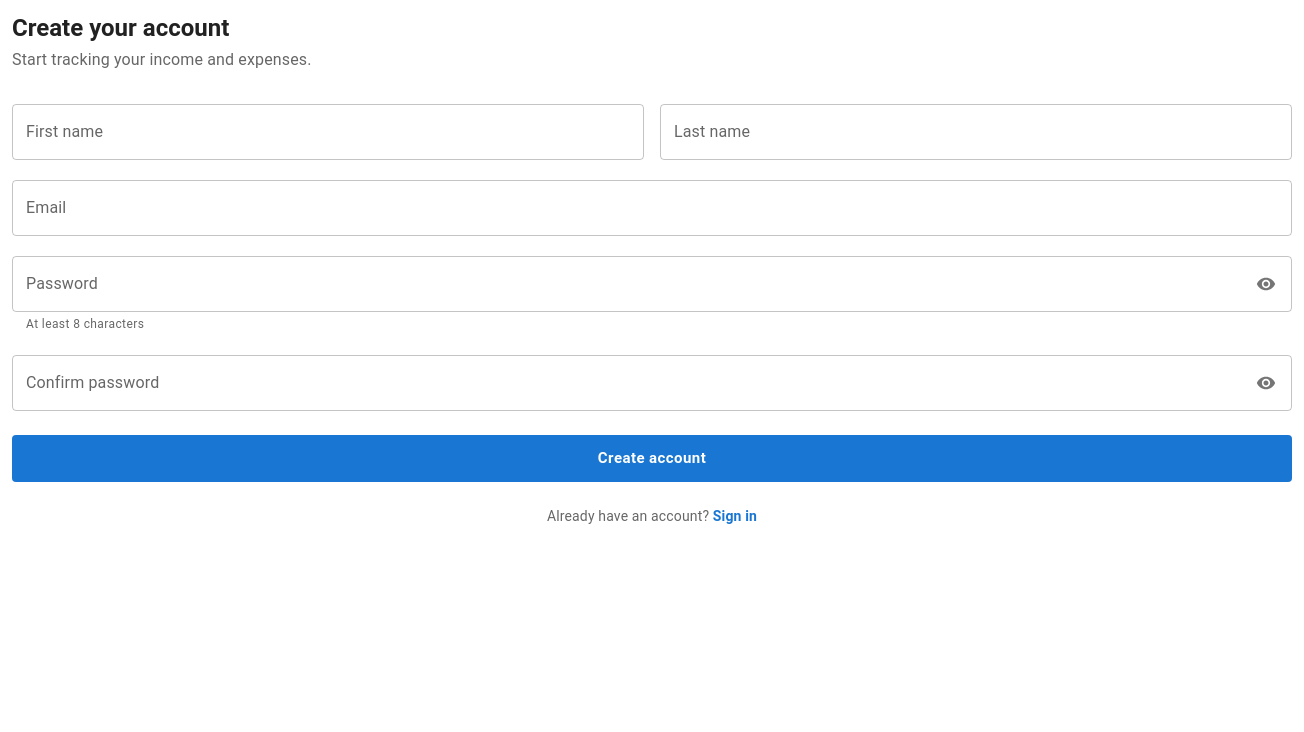
Test: Register page › rejects passwords that do not match
Step 1. Type "Demo" into the field labelled "First name" → (328, 132), box [12,104,644,160]
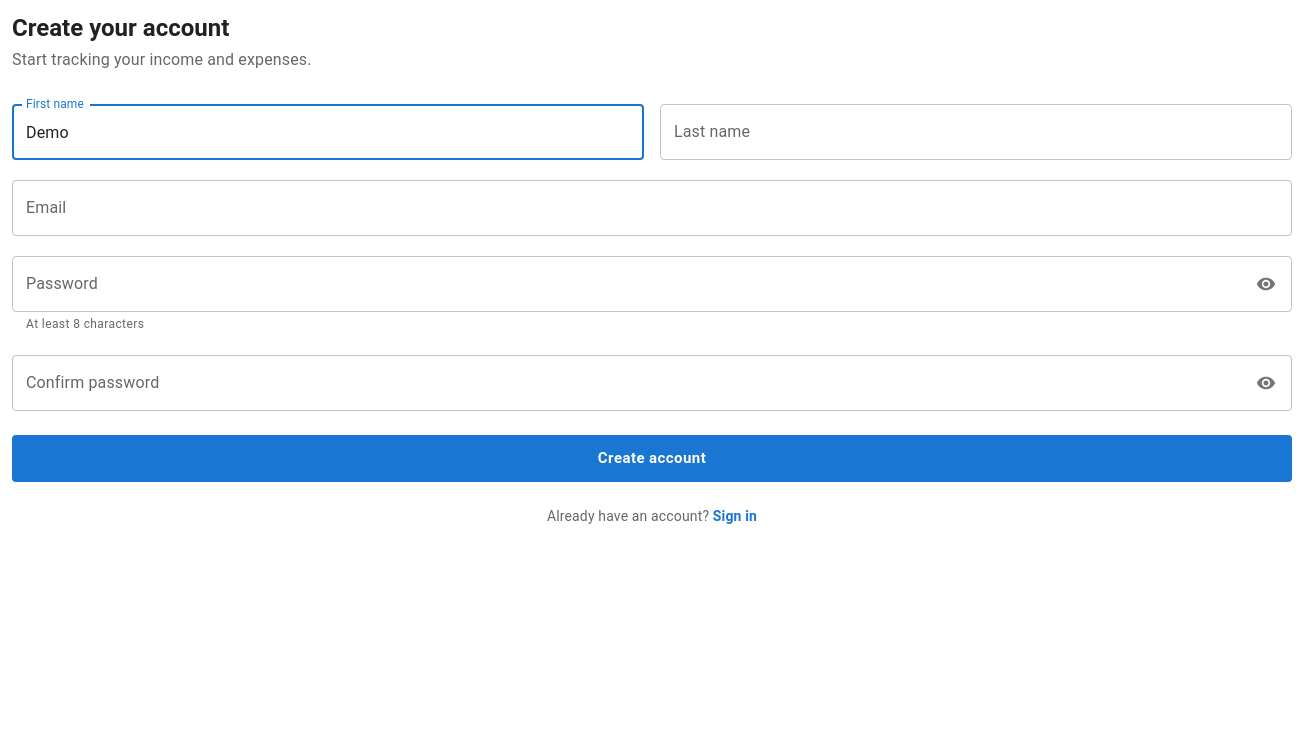
Step 2. Type "User" into the field labelled "Last name" → (976, 132), box [660,104,1292,160]
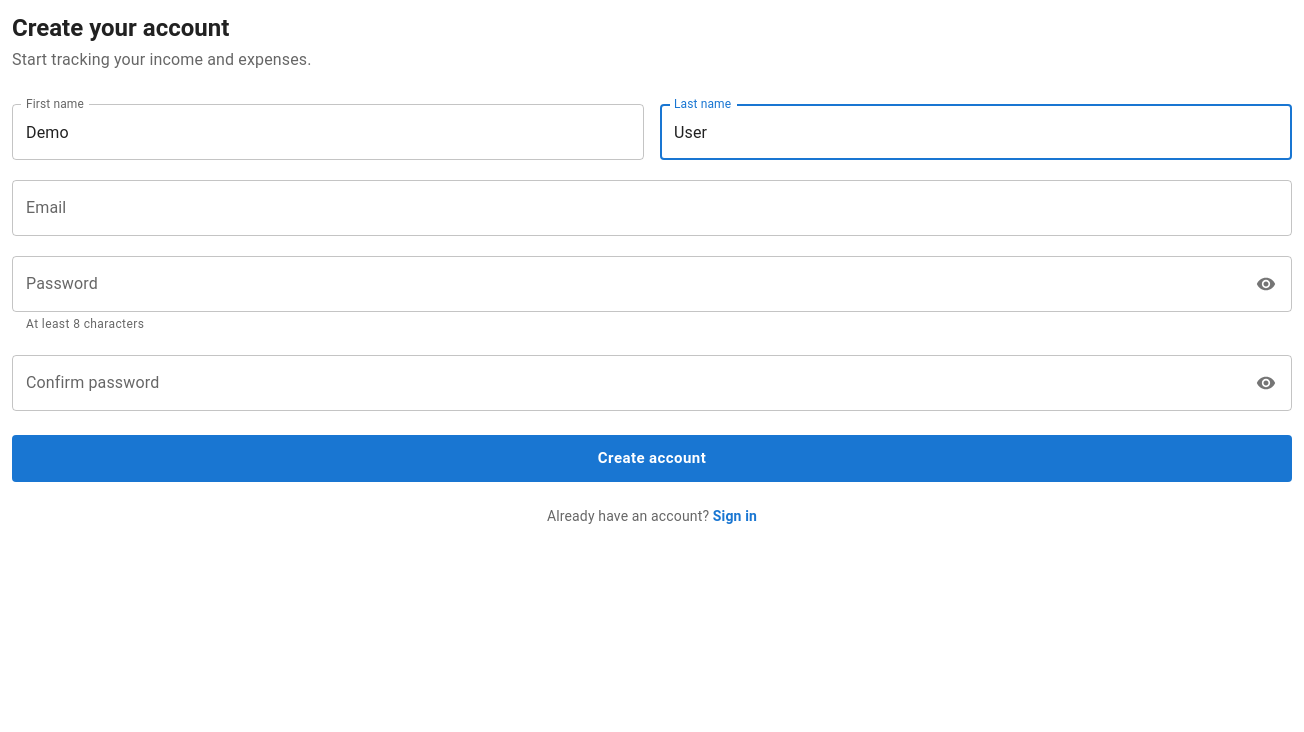
Step 3. Type "demo@qashio.com" into the field labelled "Email" → (652, 208), box [12,180,1292,236]
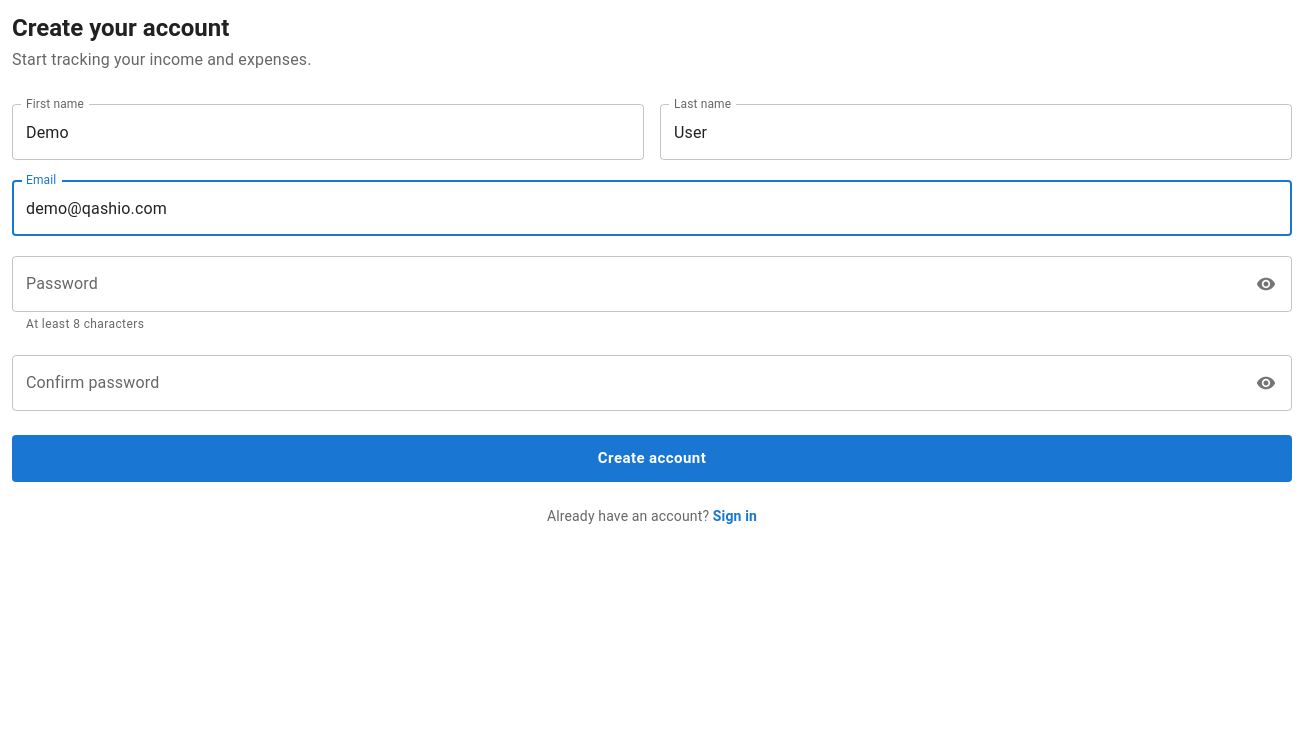
Step 4. Type "Secret123" into the password field labelled "Password" → (628, 284), box [12,256,1243,312]
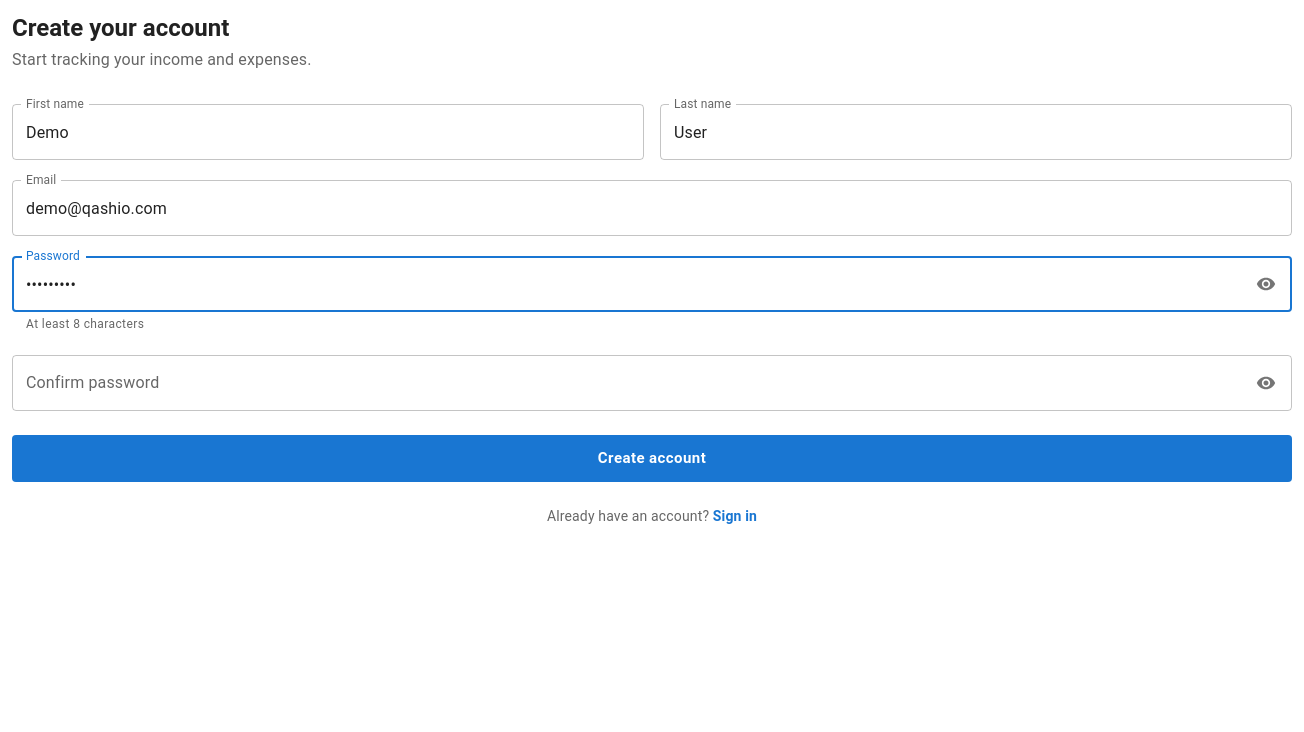
Step 5. Type "Different123" into the password field labelled "Confirm password" → (628, 383), box [12,355,1243,411]
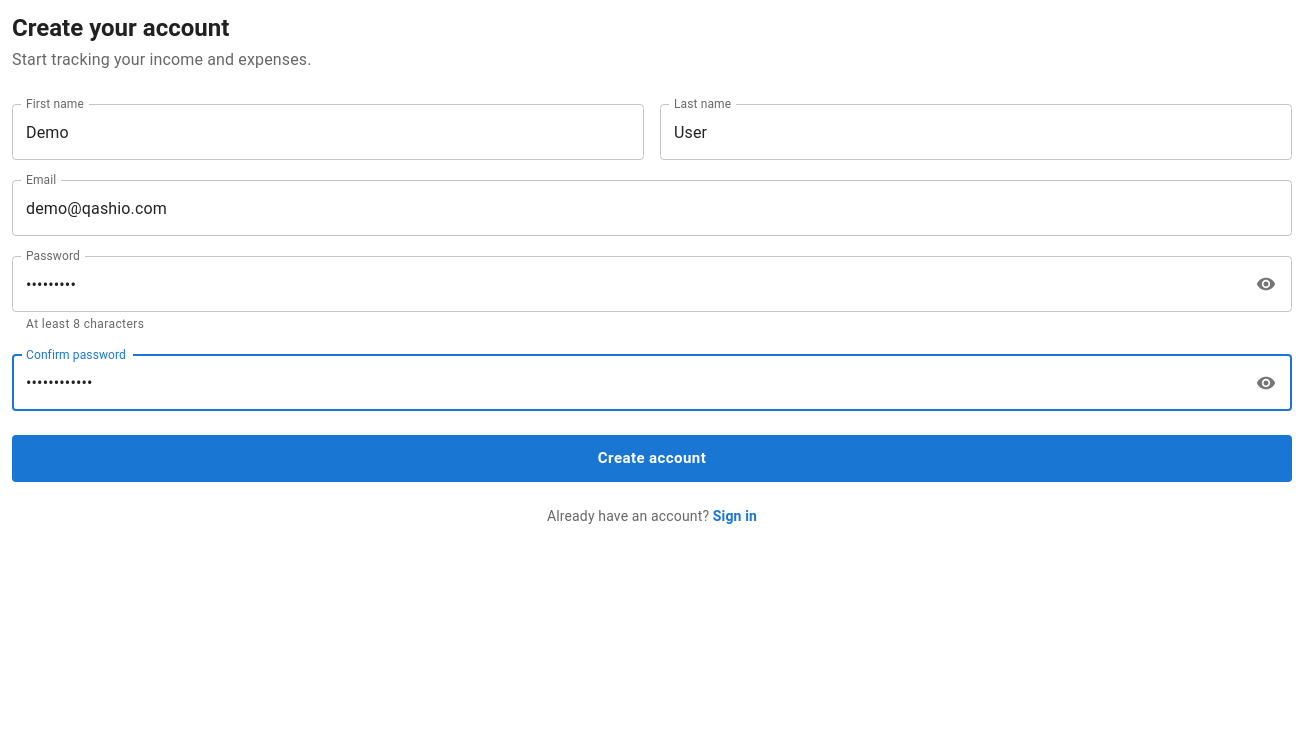
Step 6. Click the button "Create account" → (652, 458), box [12,435,1292,482]
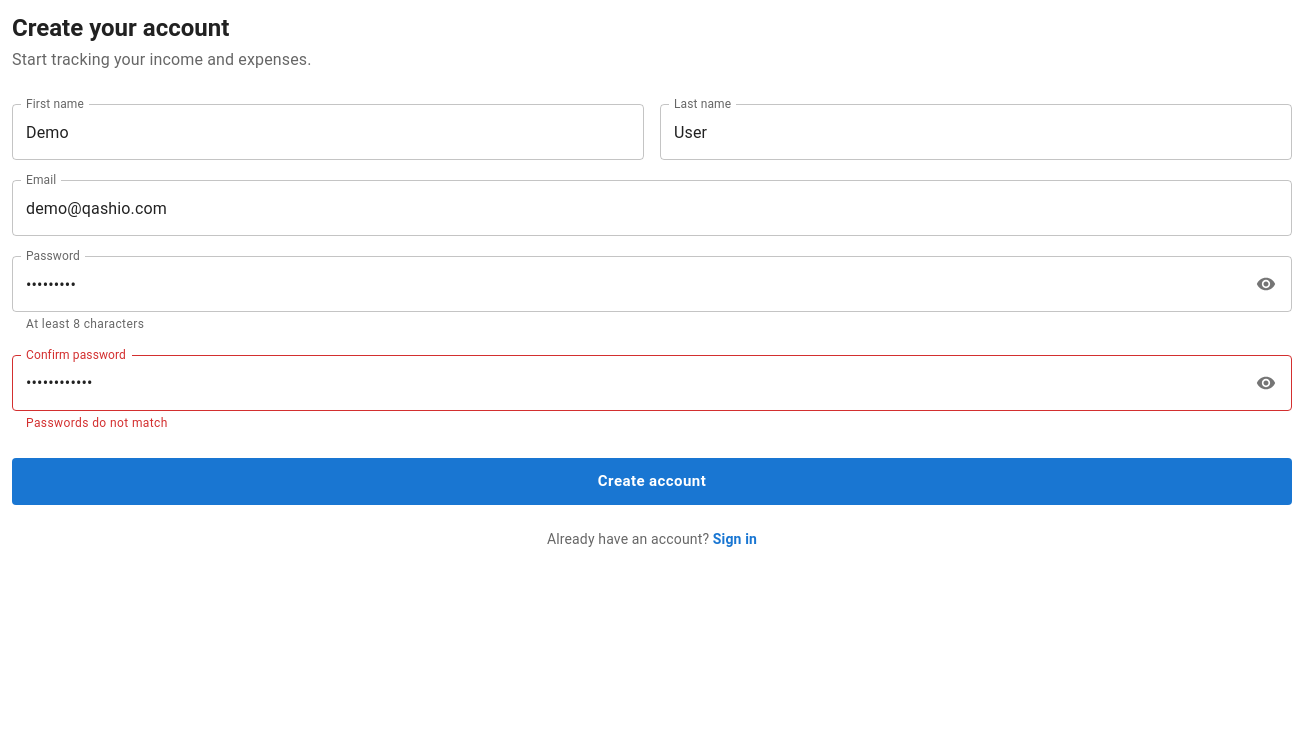
Expected: the text "Passwords do not match" is shown, [26,416,168,430]
